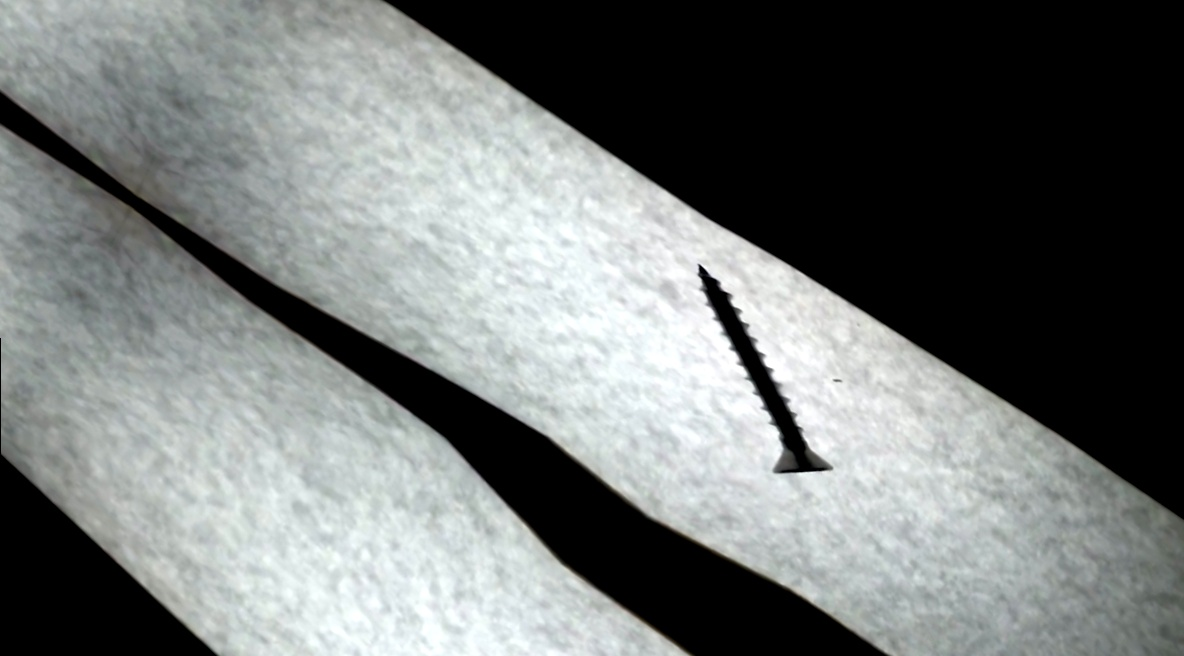S001: (618, 234, 892, 526)
